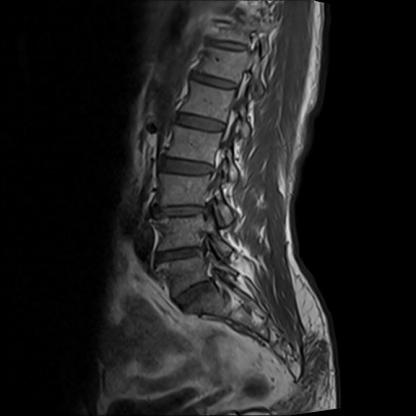Degenerative Disc Diseaserotation: (164, 281, 227, 306)
Disc Bulgerotation: (149, 240, 217, 270), (149, 200, 219, 227)
